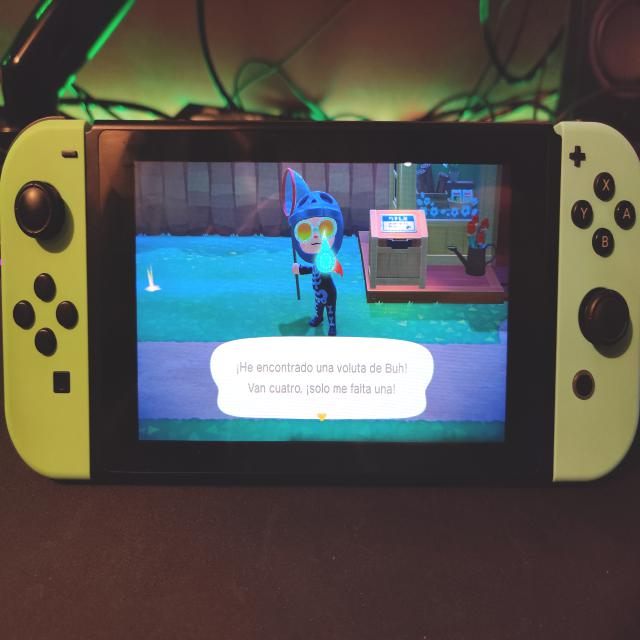text_bubble: (211, 334, 436, 422)
